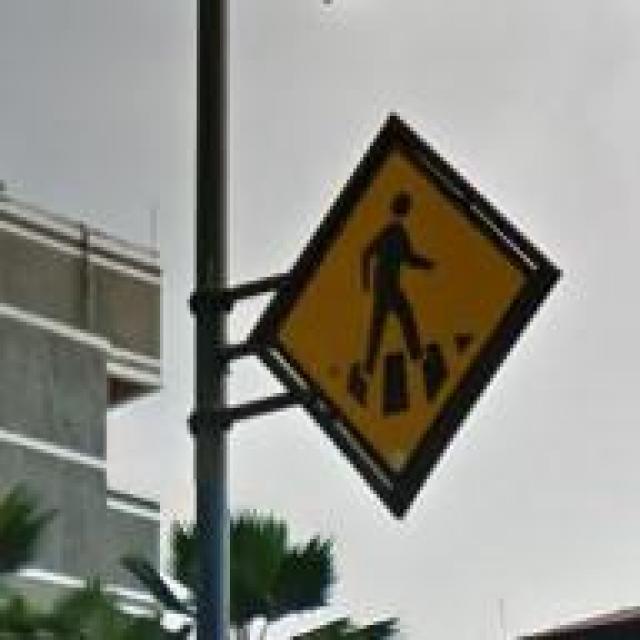traffic sign: (277, 142, 524, 479)
